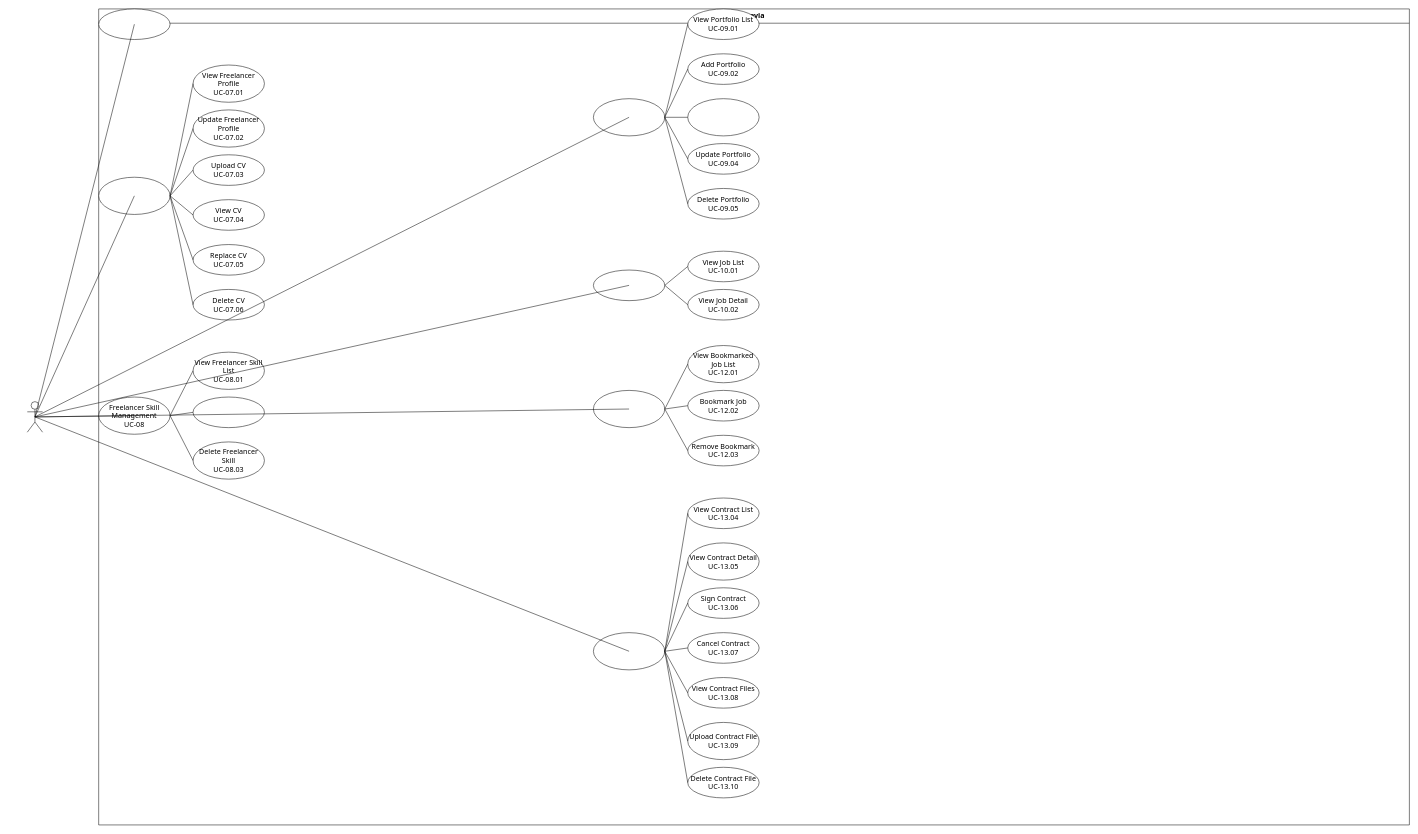
The diagram is 1418 pixels wide and 834 high, and some of its shapes have lost their labels. Each missing label, with the centre of its shape:
Add Freelancer Skill UC-08.02: [228,412]
Contract Management UC-13: [629,651]
Freelancer (1/3): [35,416]
Freelancer Profile Management UC-07: [134,195]
Job Bookmark Management UC-12: [629,409]
Job Browsing UC-10: [629,285]
Logout UC-03: [134,24]
Portfolio Management UC-09: [629,117]
View Portfolio Detail UC-09.03: [723,117]
